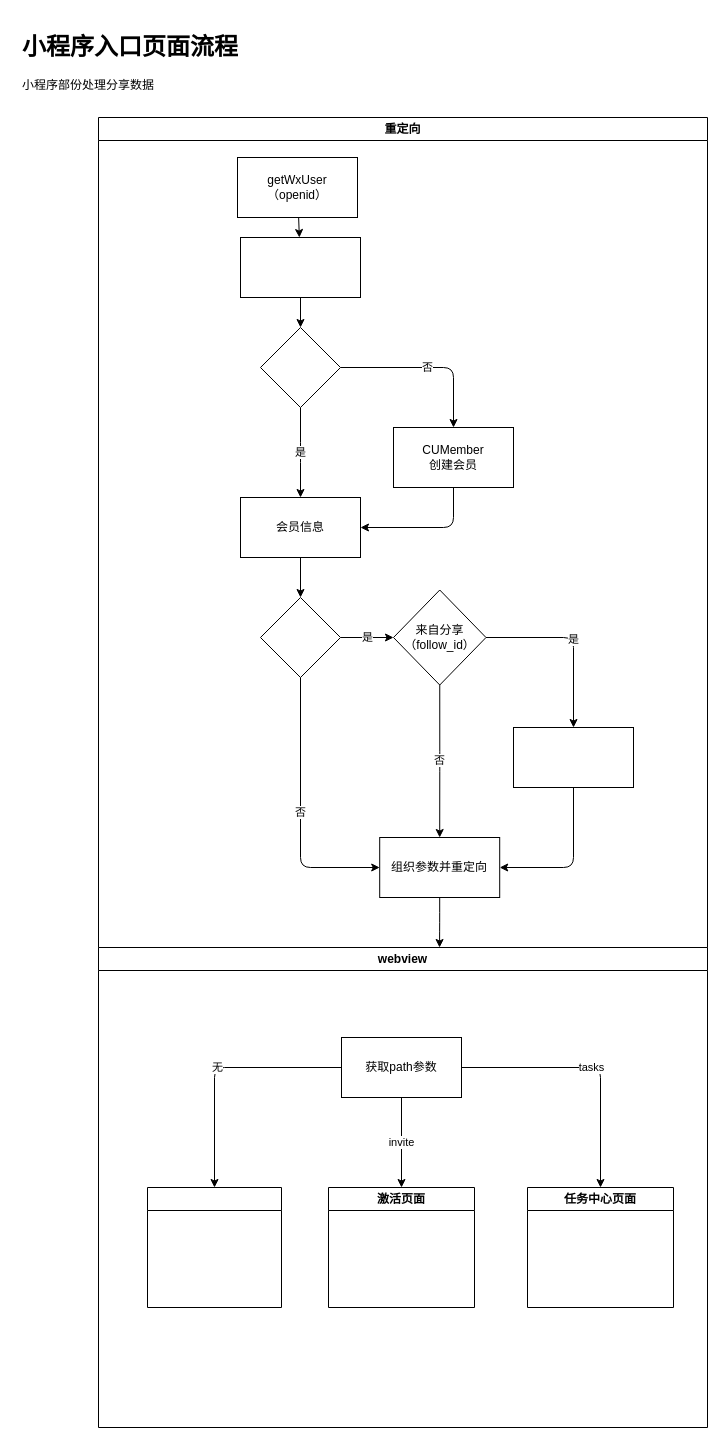
Some shapes in this 725 by 1445 pixel diagram are drawn without their labels. The box of each missing label's shape, as (x1, y1, x2, y2) in pixels:
QMember: (240, 236, 360, 298)
主页: (146, 1186, 282, 1308)
保存分享记录: (512, 726, 634, 788)
存在: (260, 326, 340, 408)
新会员: (260, 596, 340, 678)
